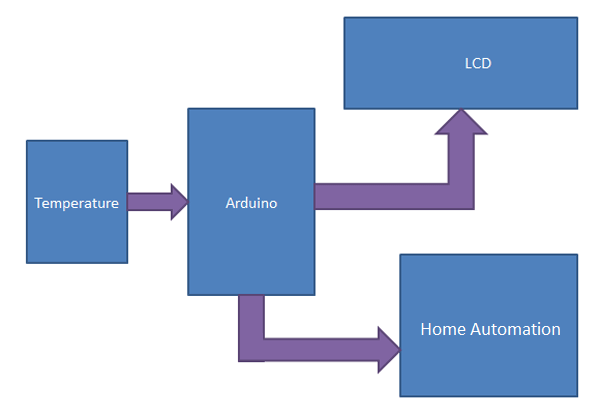arrow: (312, 108, 489, 214), (235, 292, 404, 376), (125, 181, 189, 222)
process: (397, 250, 581, 400), (185, 105, 319, 299), (341, 14, 580, 113), (23, 138, 130, 268)
text: (418, 319, 562, 338), (31, 195, 121, 212), (223, 195, 278, 210), (461, 56, 493, 72)
